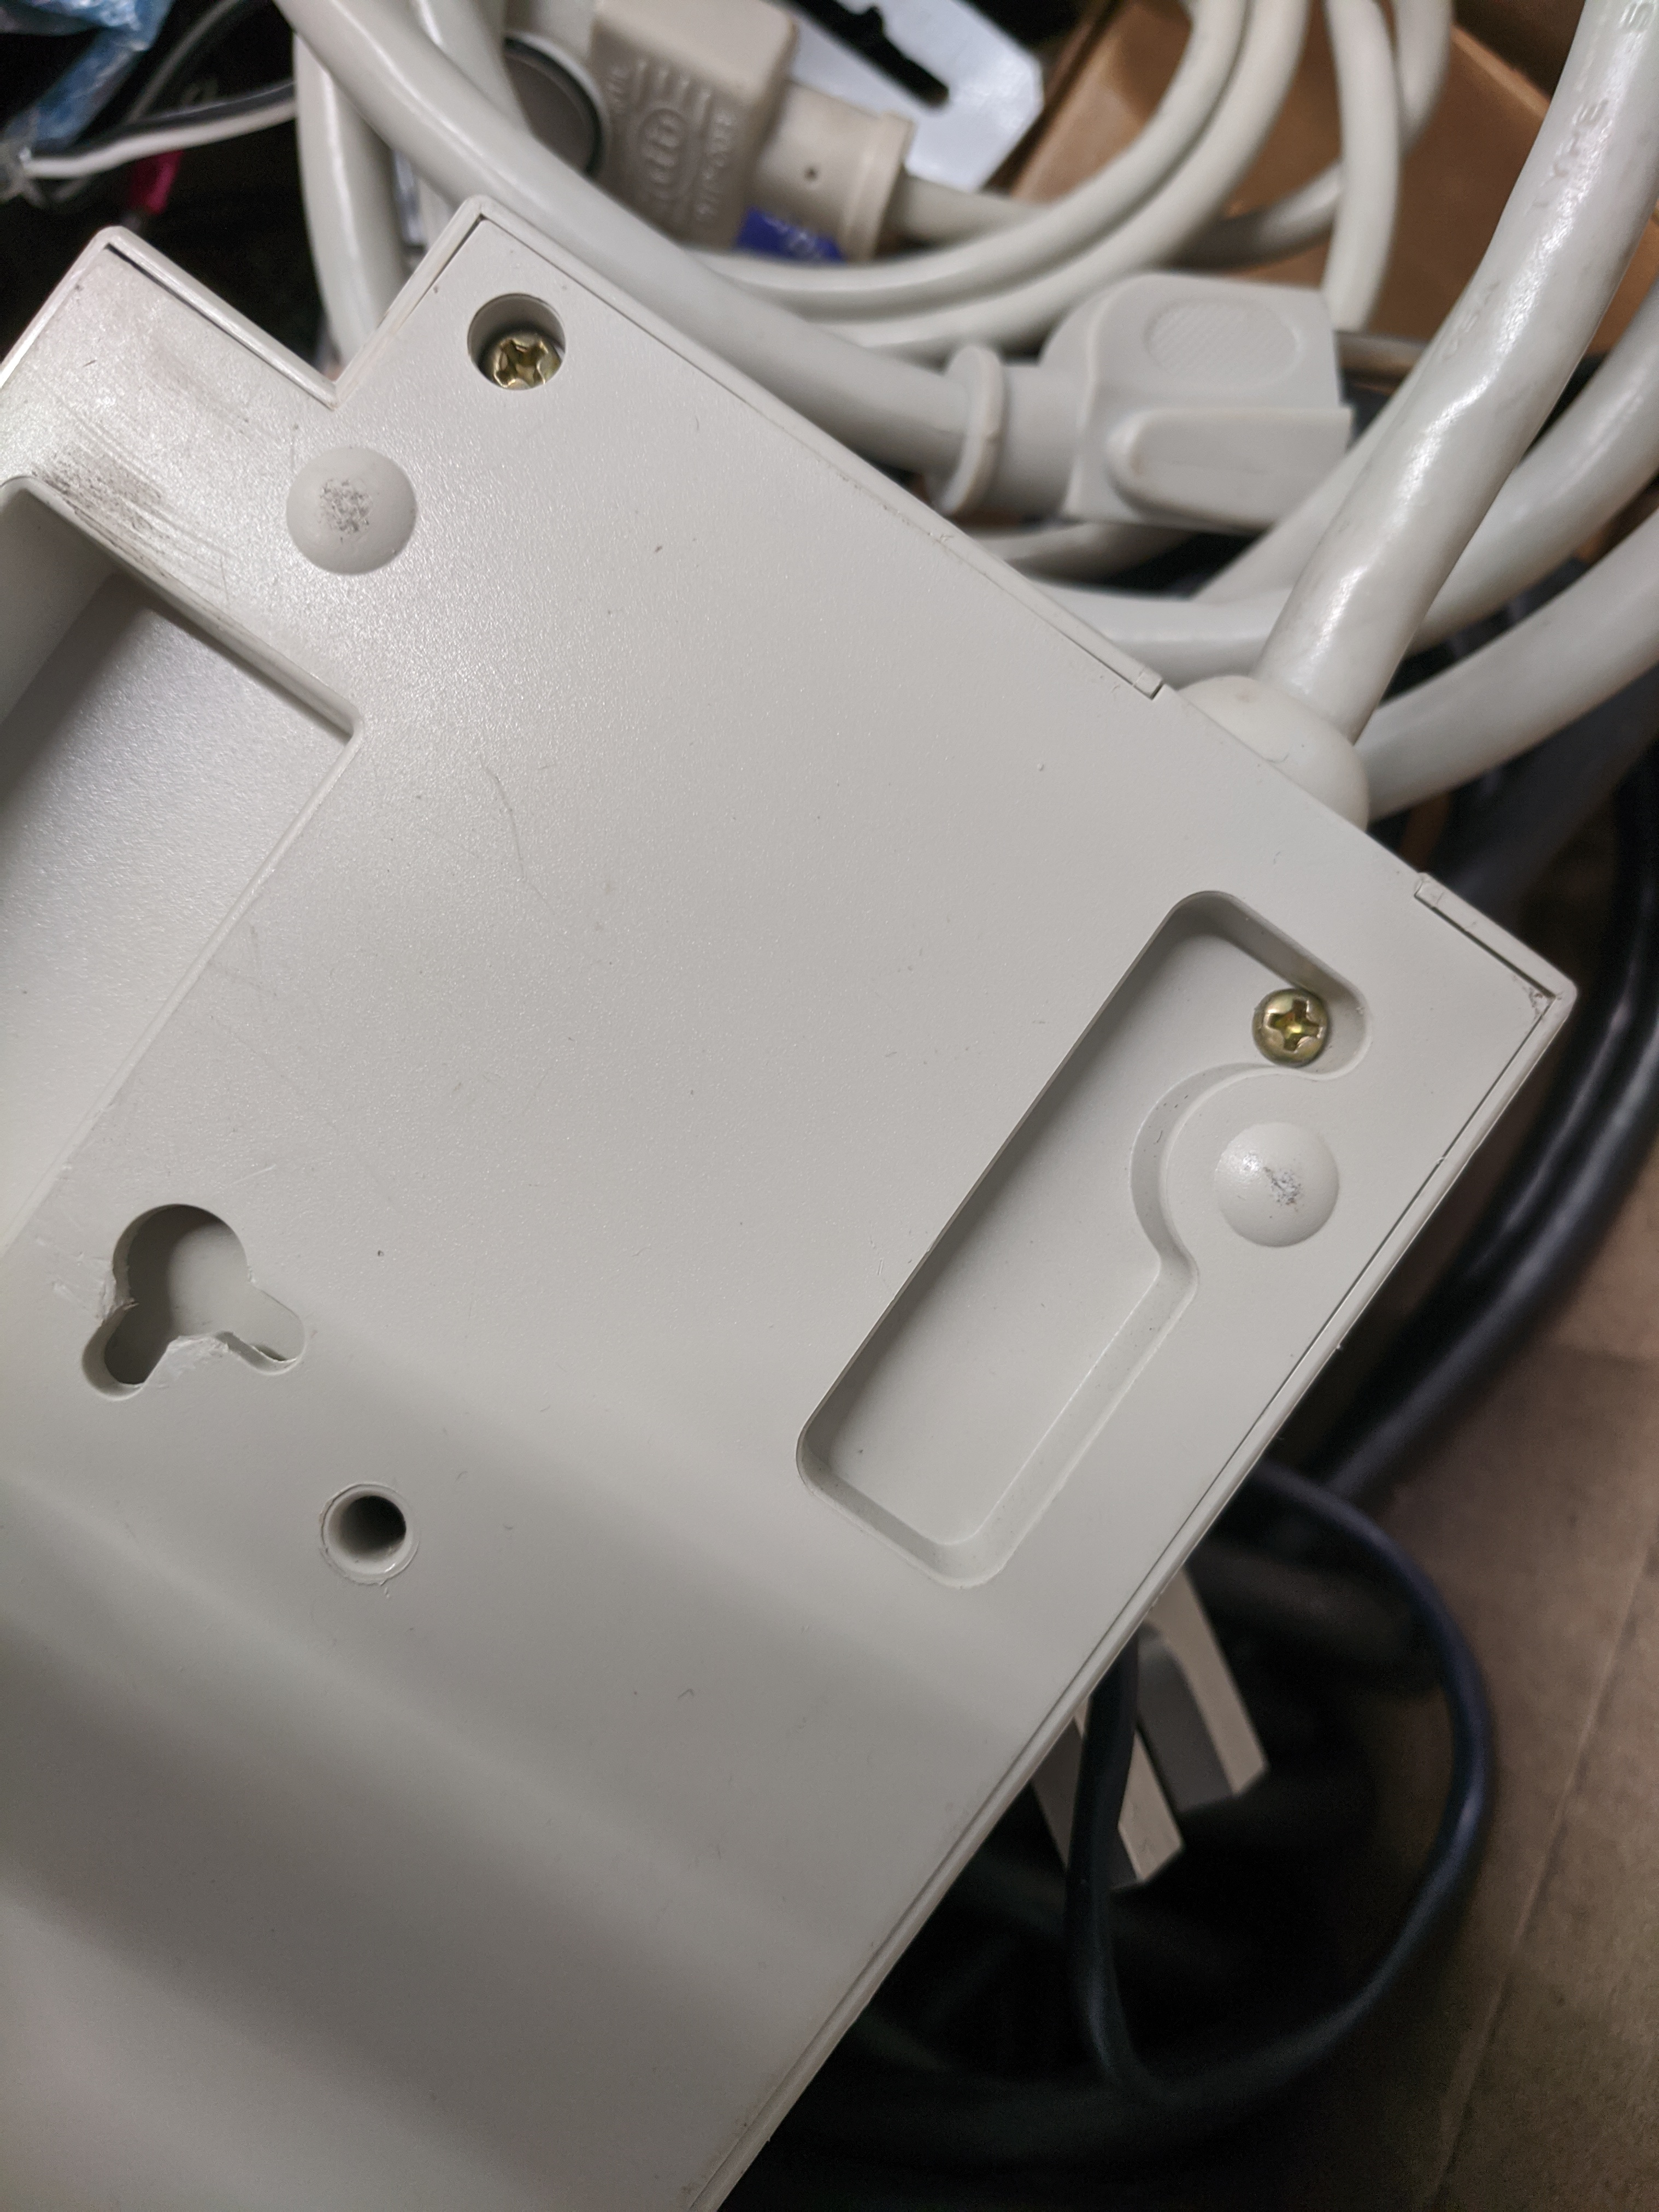cross_recessed_screw: (460, 301, 570, 397), (1243, 963, 1349, 1059)
